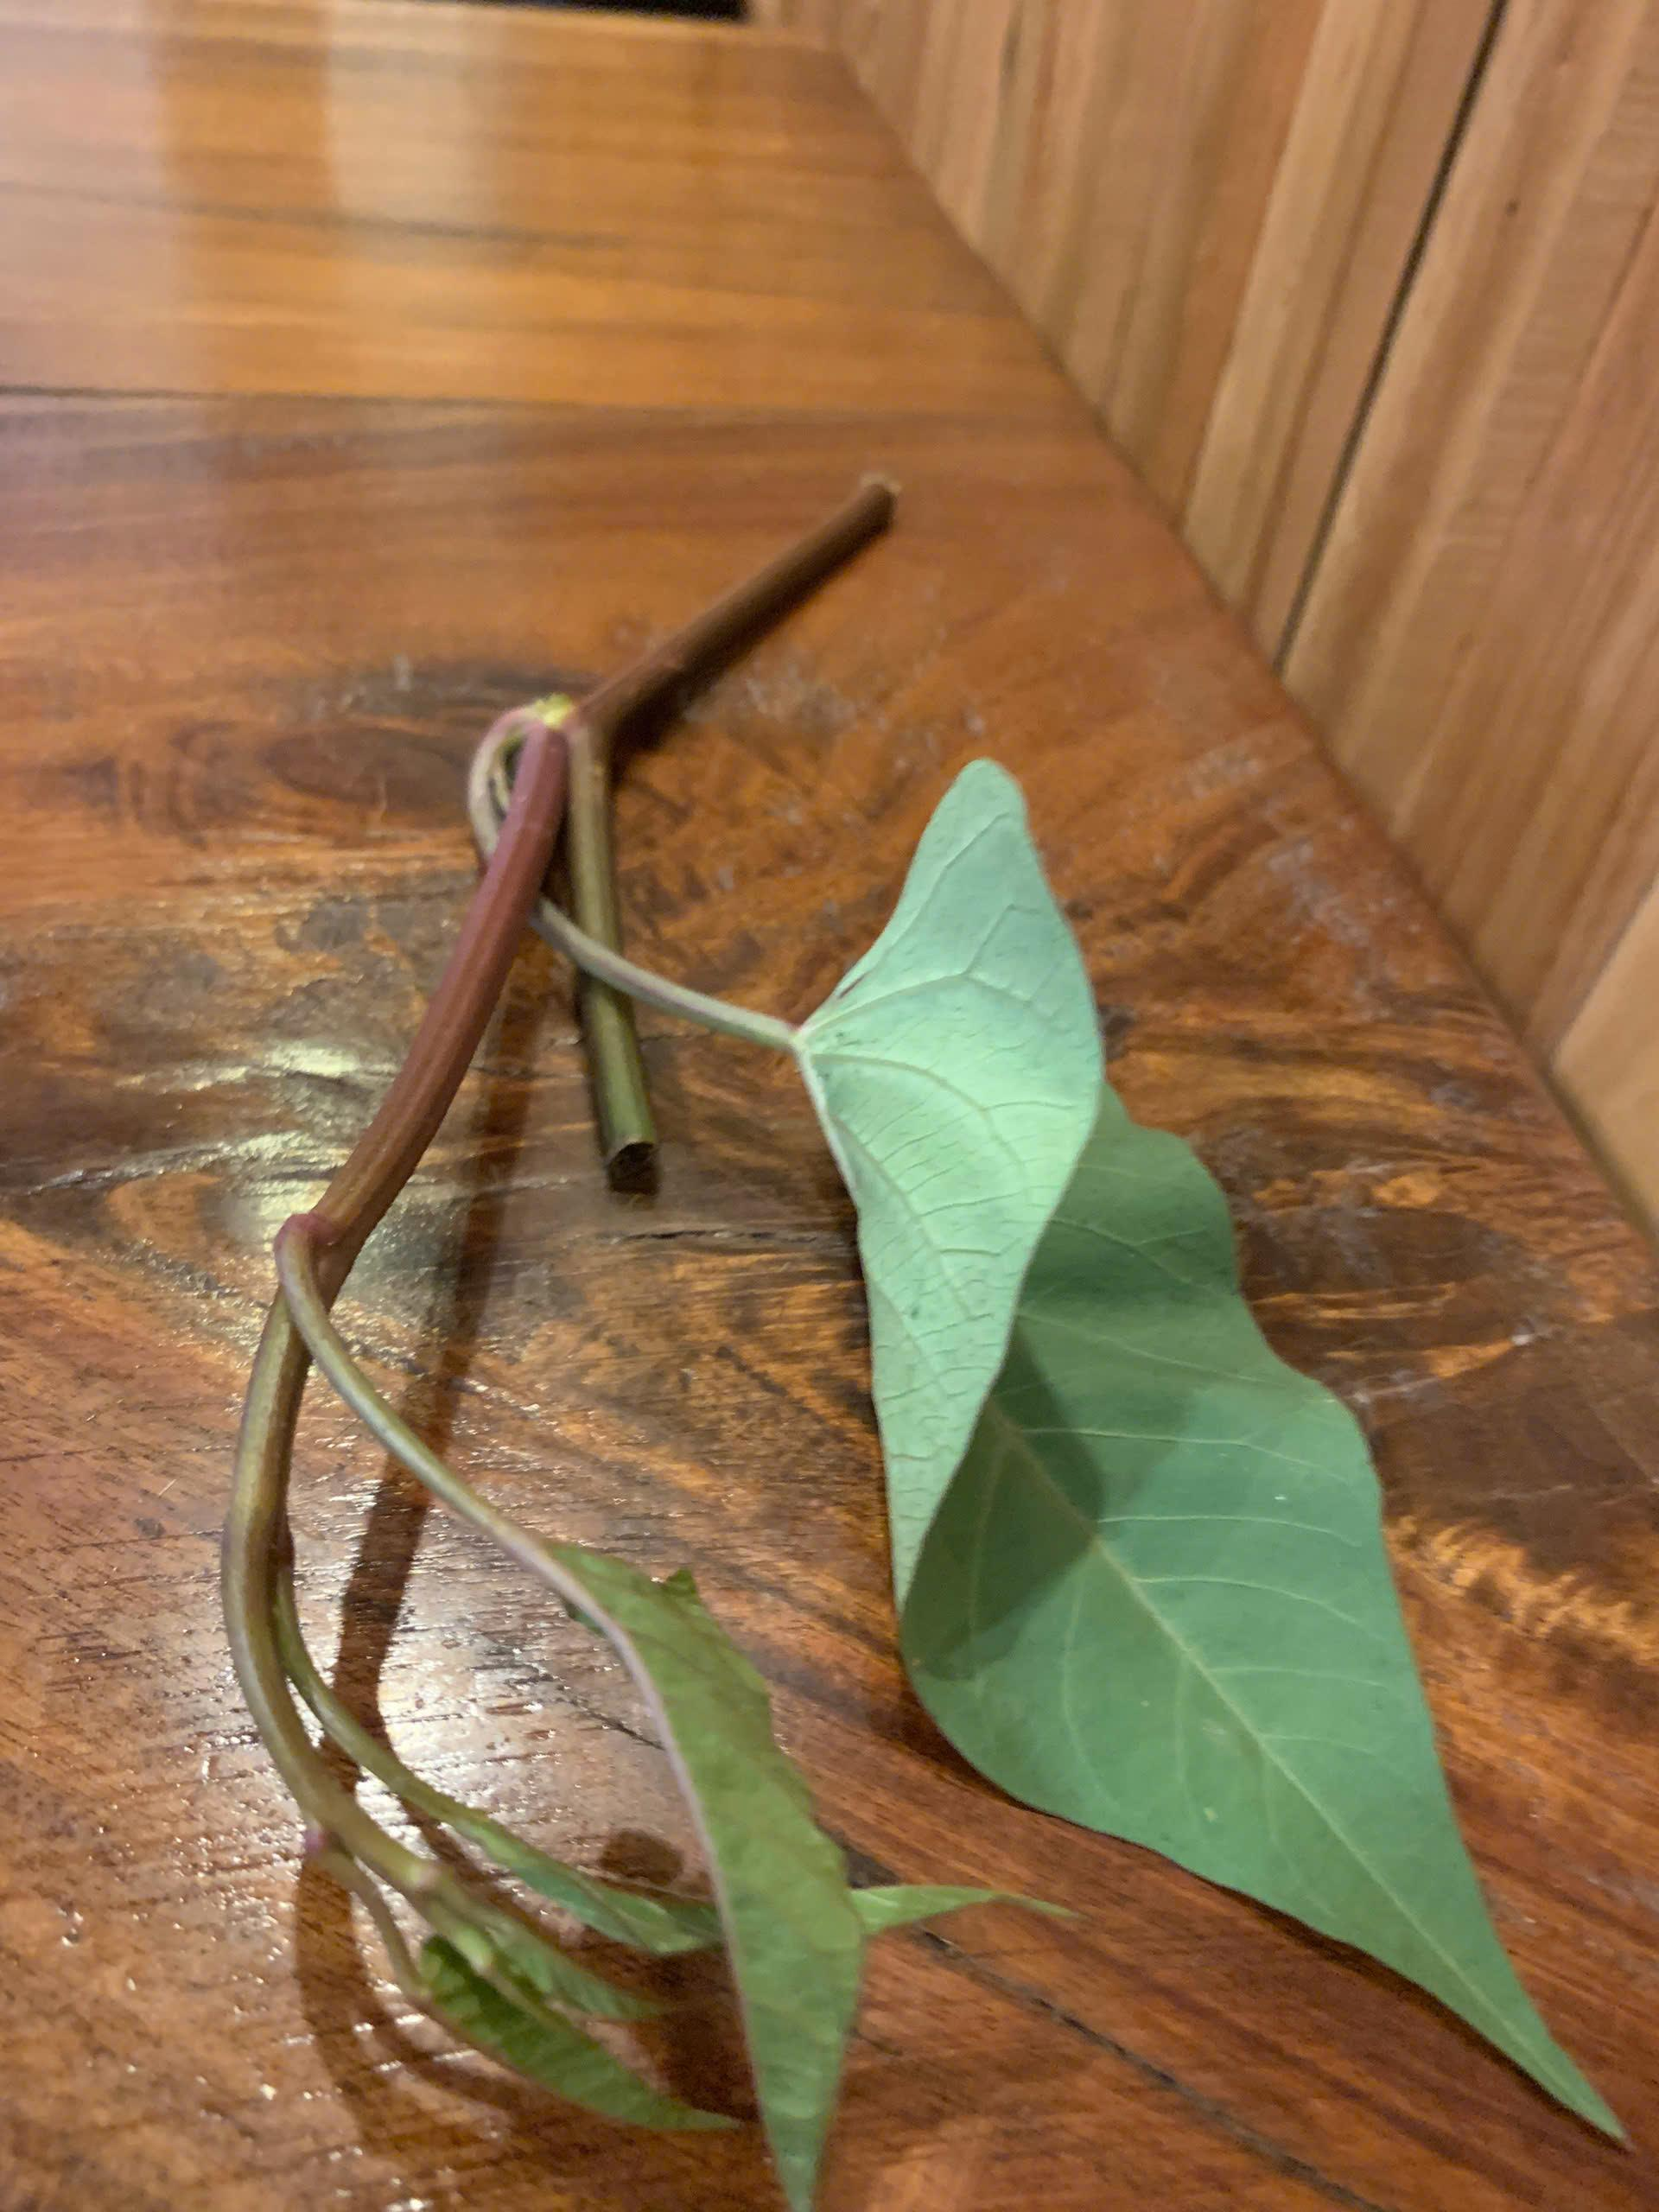Huu co: (216, 636, 1568, 2123)
